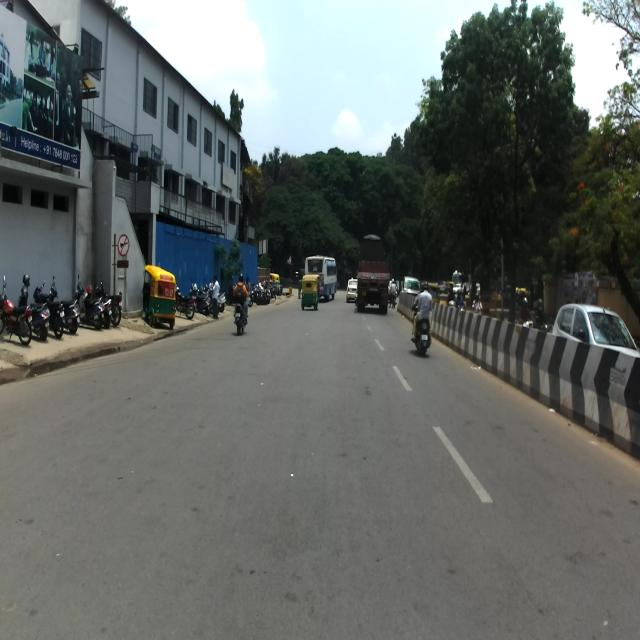auto ahead at: (143, 266, 177, 328), (300, 275, 318, 309)
motorcycle ahead at: (409, 278, 440, 356), (232, 273, 250, 335)
truck ahead at: (355, 232, 393, 318)
